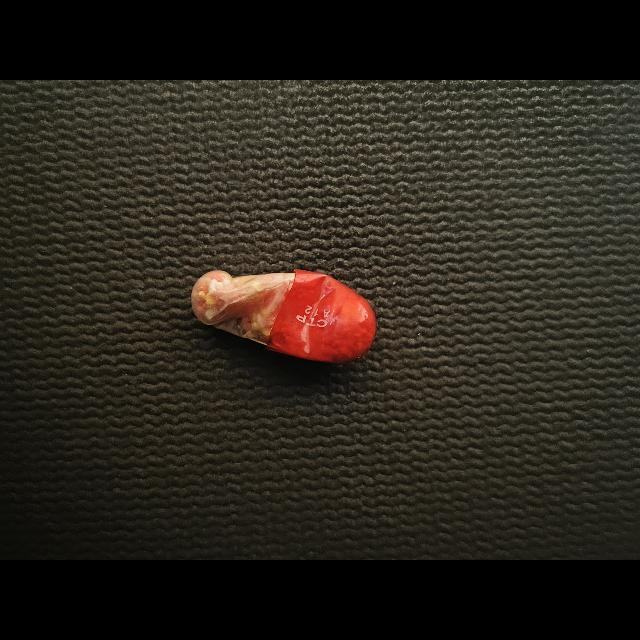Defective Capsule: (191, 269, 376, 363)
